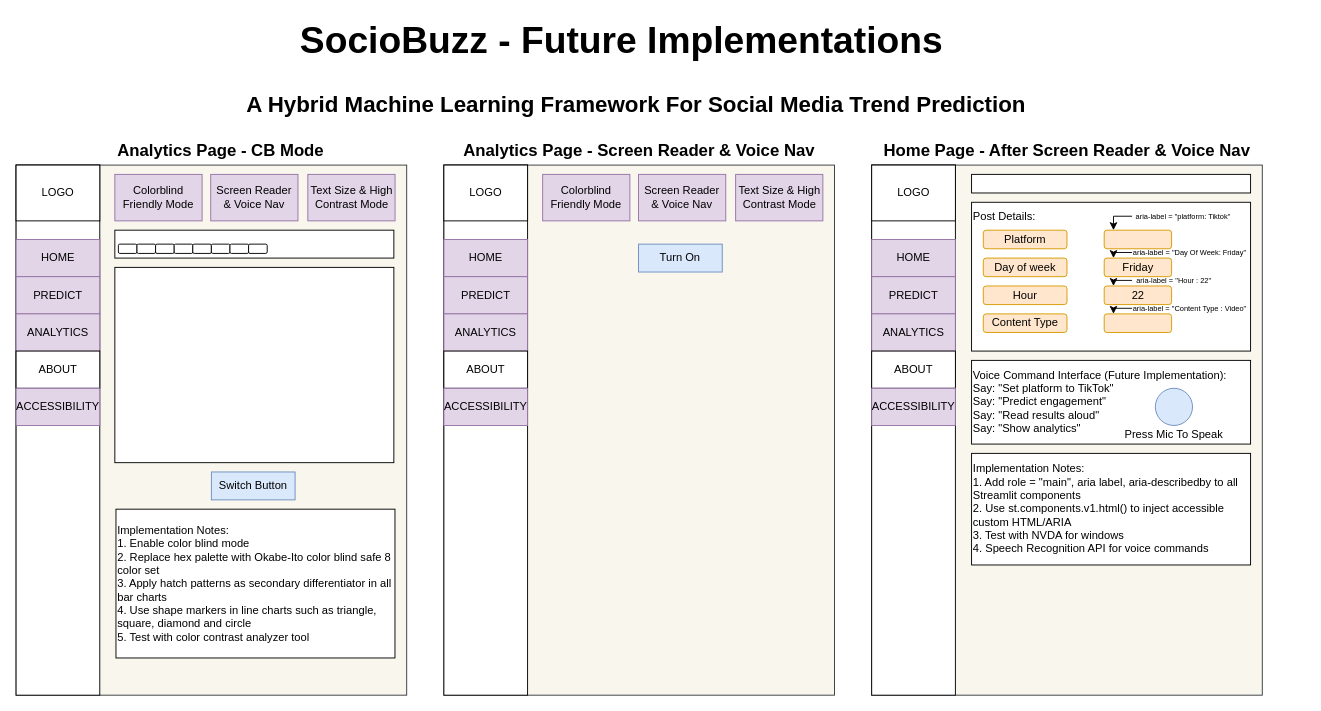
The diagram is 1321 pixels wide and 711 high, and some of its shapes have lost their labels. The centre of each missing label's shape, as x and y in pixels:
Bar Chart - Legend uses shape + color (dual encoding): the point at 254,364
Colorblind Safe Palette: the point at 254,243
MIC: the point at 1173,406
Predict Page - Aria Labels & Focus Order: the point at 1111,183
Tiktok: the point at 1137,239
Video: the point at 1137,322
